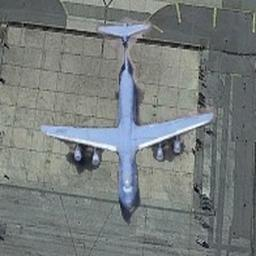Airplane: (39, 18, 214, 215)
